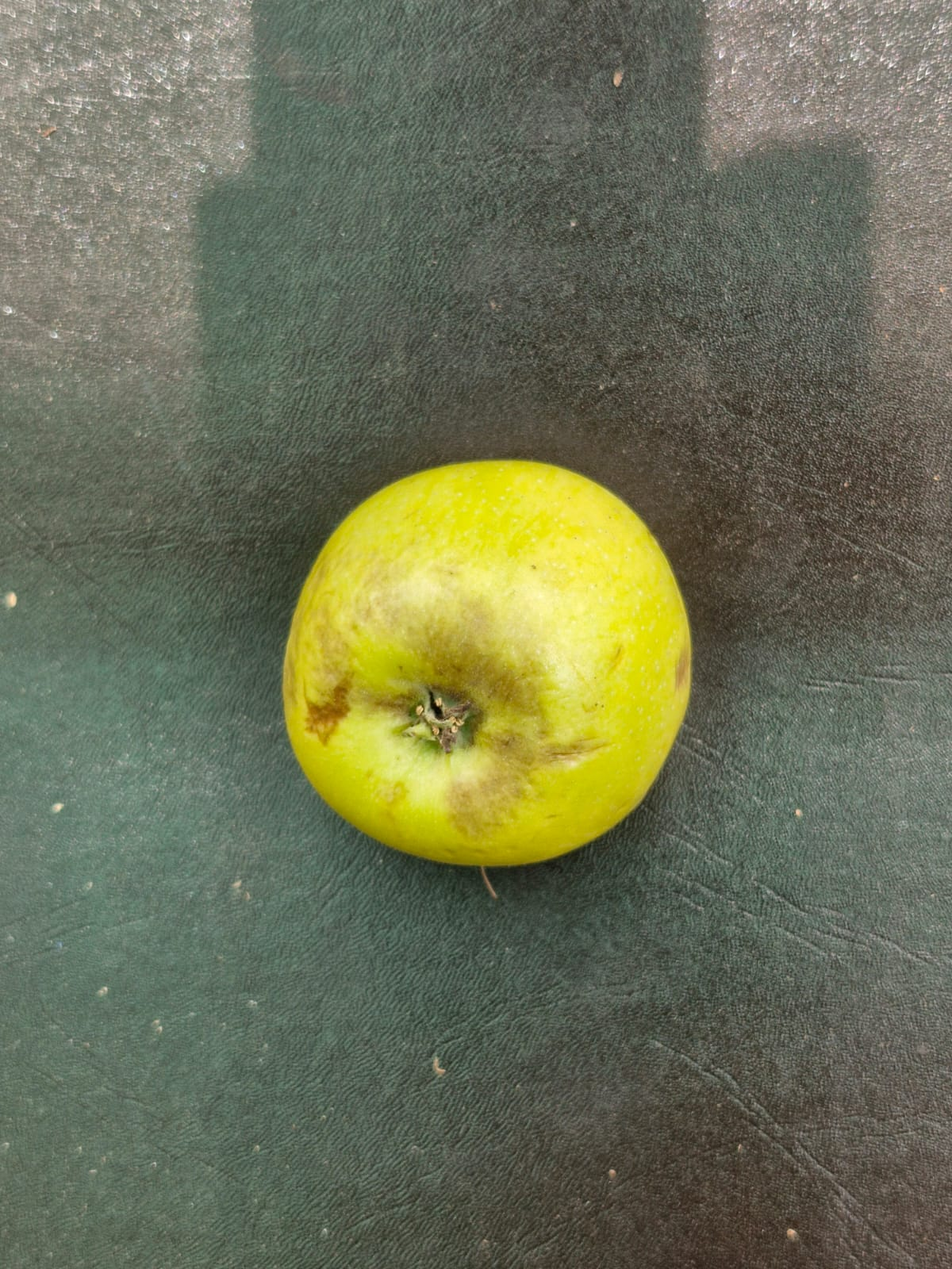apple: (172, 258, 871, 1264)
